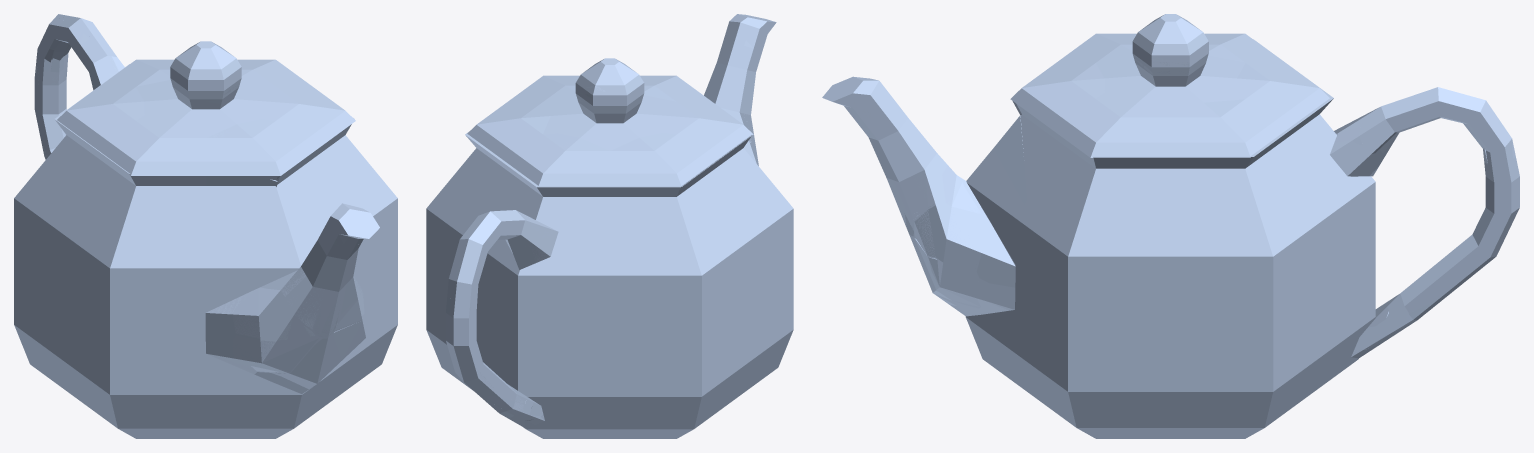
Rendered from shattered_teapot.fbx.
3 views of the same model, side by side, from view 1: azimuth 30°, elevation 25°; view 2: azimuth 150°, elevation 25°; view 3: azimuth 270°, elevation 25° (orthographic). The views are drawn at different scales.
Parts seen in each view (by area): view 1: Cylinder, Cylinder.002, Cylinder.003, Cylinder_cell.021, Cylinder.001, Cylinder_cell.015, Cylinder_cell.031, Cylinder_cell.020, Cylinder.002_cell.015, Cylinder_cell.005, Cylinder_cell.014, Cylinder_cell.009 (+21 smaller); view 2: Cylinder, Cylinder.002, Cylinder_cell.023, Cylinder.001, Cylinder_cell.022, Cylinder.003, Cylinder_cell.012, Cylinder_cell.021, Cylinder.002_cell.017, Cylinder.002_cell.012, Cylinder_cell.028, Cylinder_cell.017 (+16 smaller); view 3: Cylinder, Cylinder.002, Cylinder.003, Cylinder_cell.018, Cylinder.001, Cylinder_cell.014, Cylinder_cell.013, Cylinder_cell.003, Cylinder_cell.023, Cylinder_cell.012, Cylinder_cell.005, Cylinder.002_cell.013 (+17 smaller).
Boxes of the visible parts, box(x1,y1,x2,y2) form: Cylinder: box(14, 75, 397, 438); Cylinder.002: box(60, 41, 355, 175); Cylinder.003: box(205, 203, 379, 389); Cylinder_cell.021: box(62, 298, 205, 410); Cylinder.001: box(34, 14, 119, 159); Cylinder_cell.015: box(206, 227, 319, 311); Cylinder_cell.031: box(206, 187, 333, 252); Cylinder_cell.020: box(206, 354, 349, 411); Cylinder.002_cell.015: box(206, 119, 309, 175); Cylinder_cell.005: box(311, 128, 370, 208); Cylinder_cell.014: box(352, 198, 397, 287); Cylinder_cell.009: box(95, 149, 205, 249); Cylinder: box(426, 134, 793, 438); Cylinder.002: box(471, 58, 750, 186); Cylinder_cell.023: box(476, 307, 609, 409); Cylinder.001: box(446, 210, 558, 428); Cylinder_cell.022: box(610, 305, 747, 412); Cylinder.003: box(704, 14, 776, 165); Cylinder_cell.012: box(477, 239, 609, 335); Cylinder_cell.021: box(746, 270, 793, 367); Cylinder.002_cell.017: box(610, 132, 709, 185); Cylinder.002_cell.012: box(504, 133, 609, 185); Cylinder_cell.028: box(610, 370, 744, 433); Cylinder_cell.017: box(612, 237, 747, 335); Cylinder: box(966, 58, 1375, 438); Cylinder.002: box(1010, 14, 1329, 157); Cylinder.003: box(822, 76, 1015, 315); Cylinder_cell.018: box(1171, 288, 1323, 409); Cylinder.001: box(1330, 87, 1519, 357); Cylinder_cell.014: box(1017, 206, 1168, 323); Cylinder_cell.013: box(1171, 214, 1323, 323); Cylinder_cell.003: box(1171, 127, 1313, 238); Cylinder_cell.023: box(1323, 250, 1375, 359); Cylinder_cell.012: box(1317, 172, 1375, 270); Cylinder_cell.005: box(1026, 132, 1169, 231); Cylinder.002_cell.013: box(1171, 99, 1281, 156).
Size of the model in its own units: 30.66 by 34.91 by 60.23.
